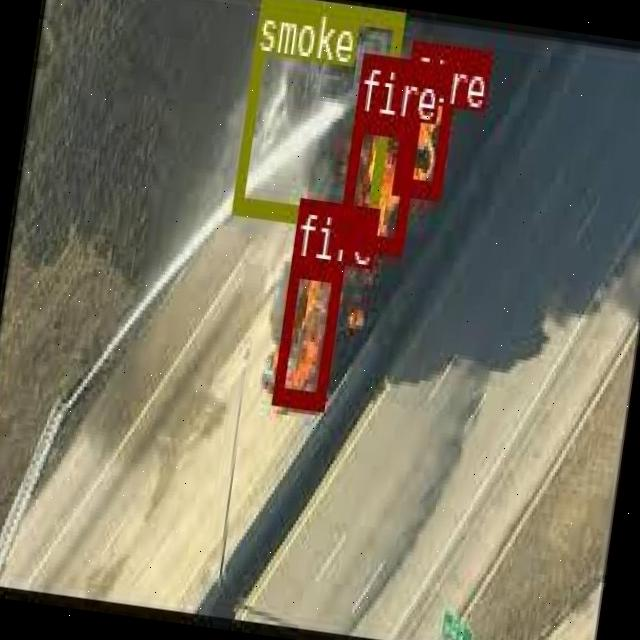fire: (336, 111, 418, 252), (271, 256, 341, 405), (392, 41, 458, 198)
smoke: (231, 0, 403, 229)
